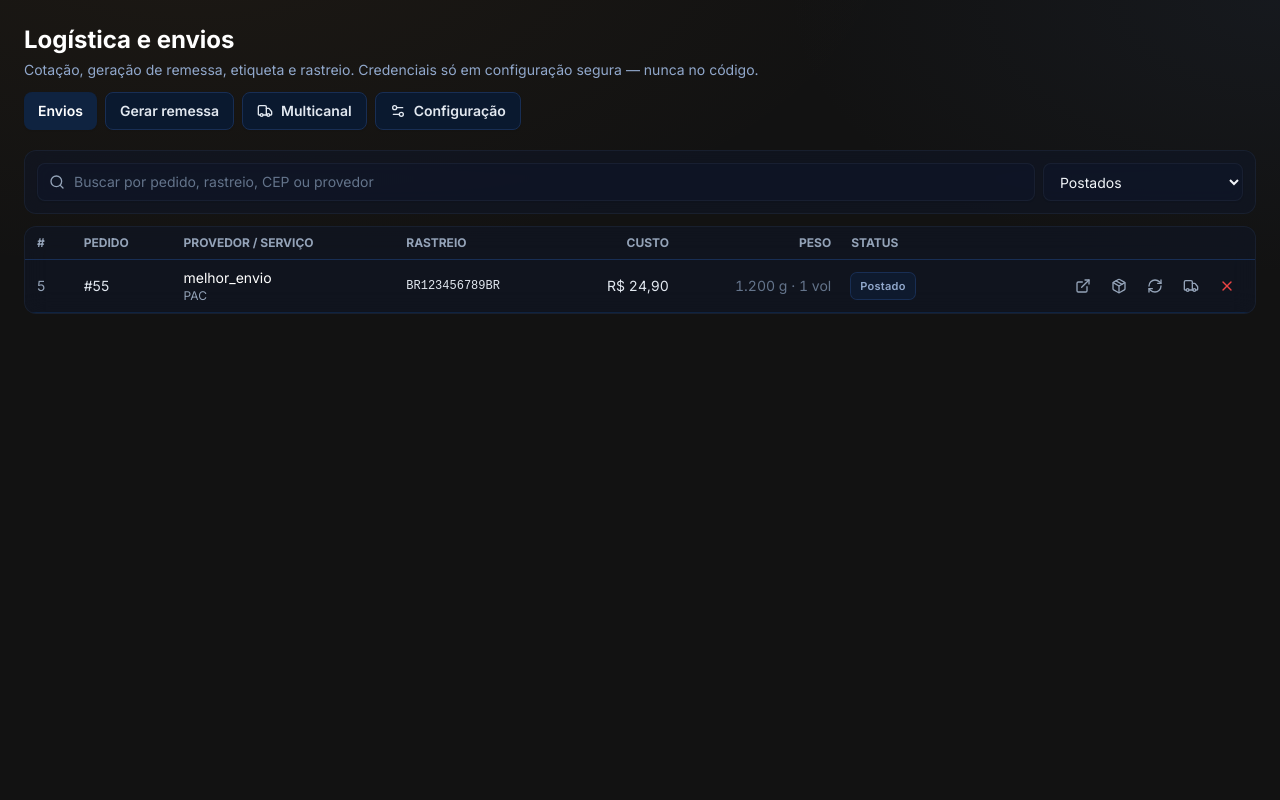
it: Logística — tela › o servidor recusa ativar provedor externo sem credencial (409) e a tela repete o motivo
The width and height of the screenshot is (1280, 800).
Click the button "Configuração".
click(448, 111)  # box [375, 92, 521, 130]
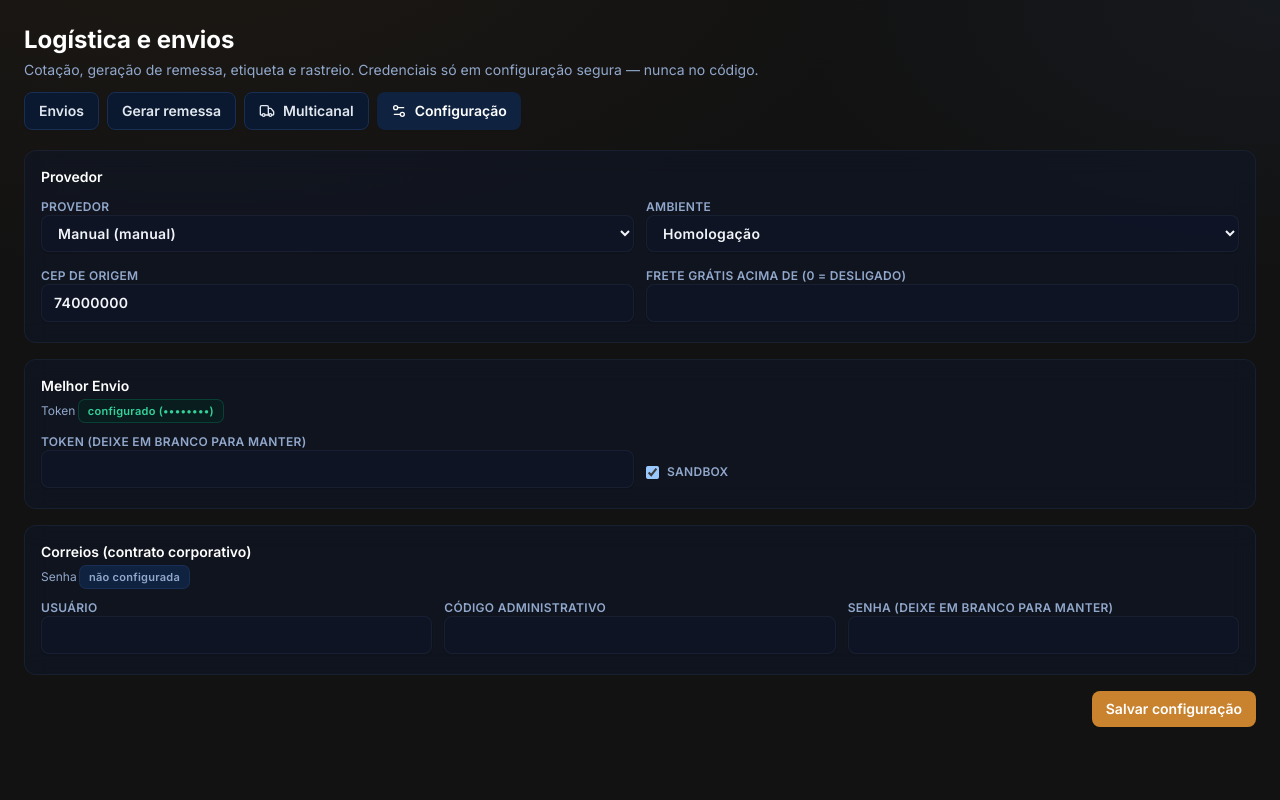
expect the text "configurado (••••••••)" is shown: met, box [79, 400, 223, 422]
Select "Correios (correios)" in the dropdown labelled "Provedor" at (338,234), box [41, 215, 634, 252]
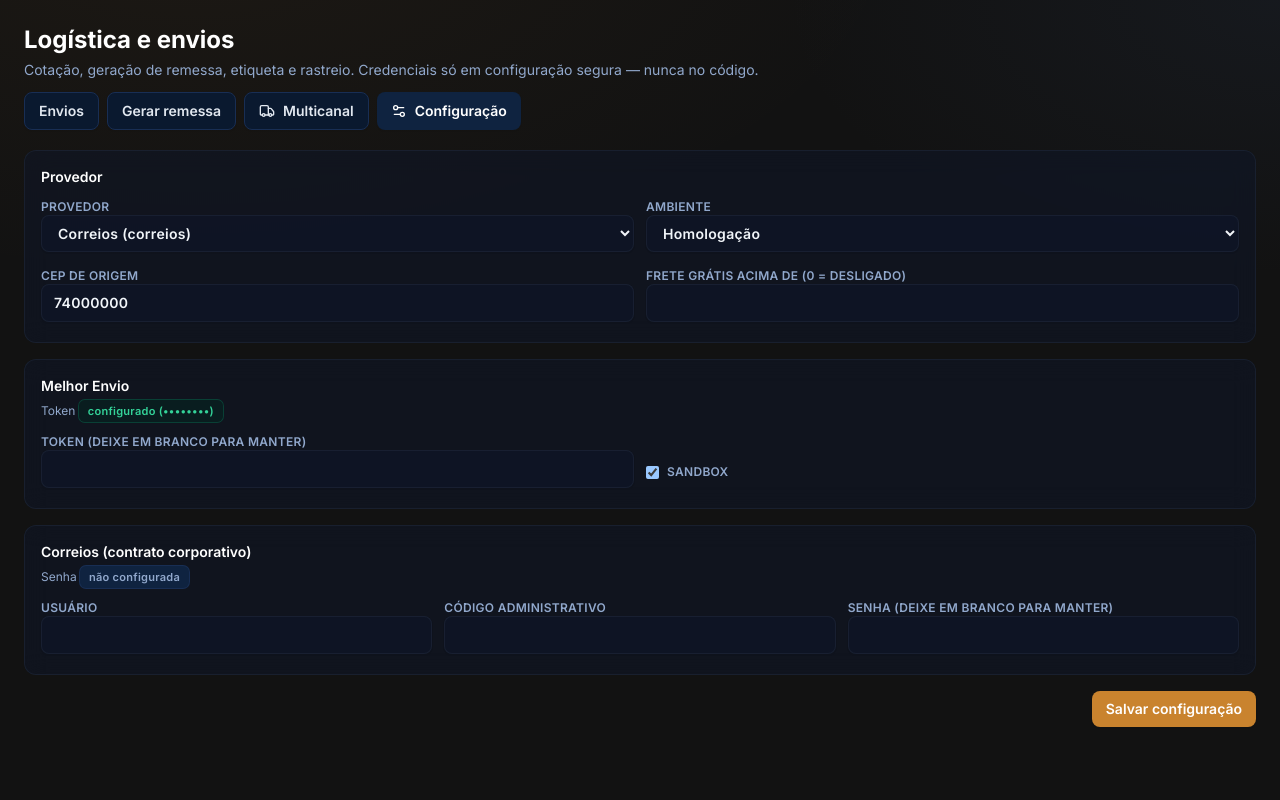
Click the button "Salvar configuração".
click(1174, 709)  # box [1092, 691, 1256, 727]
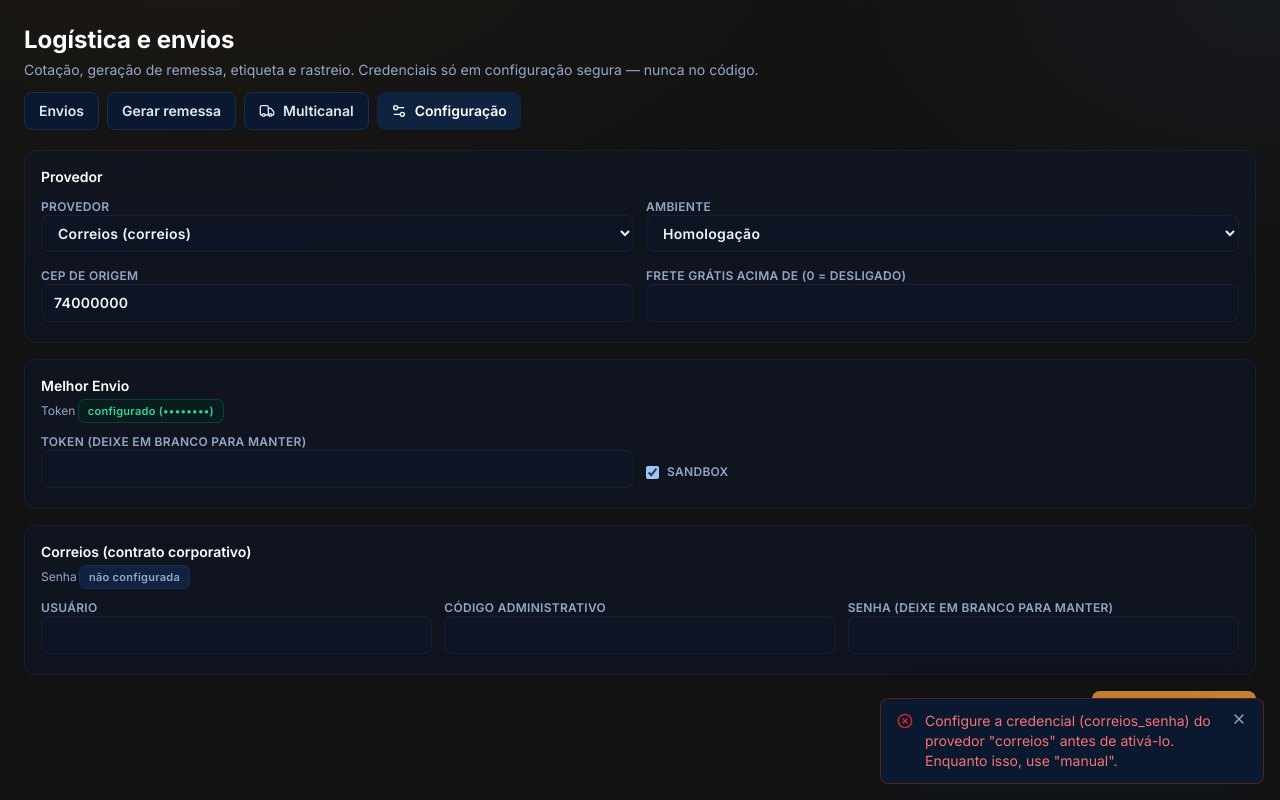
expect the text "Configure a credencial (correios_senha)" is shown: met, box [925, 712, 1211, 769]
